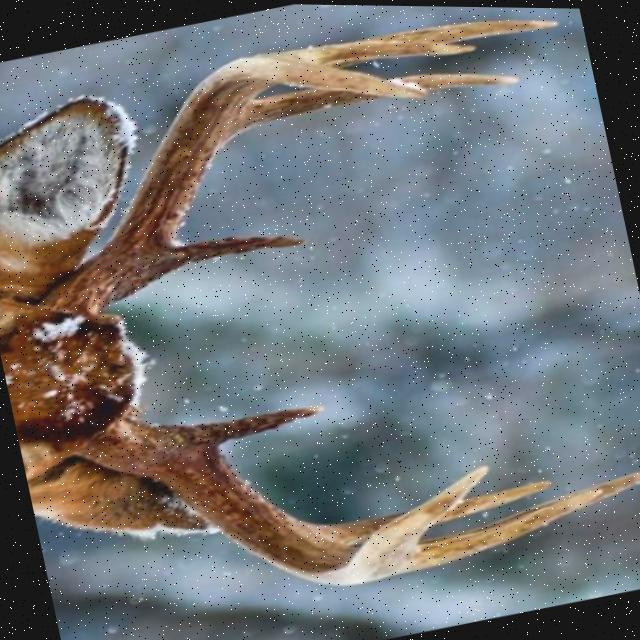L-F: (74, 420, 490, 583)
L-G1: (173, 404, 324, 448)
R-F: (34, 53, 429, 312)
R-G1: (157, 233, 305, 276)
